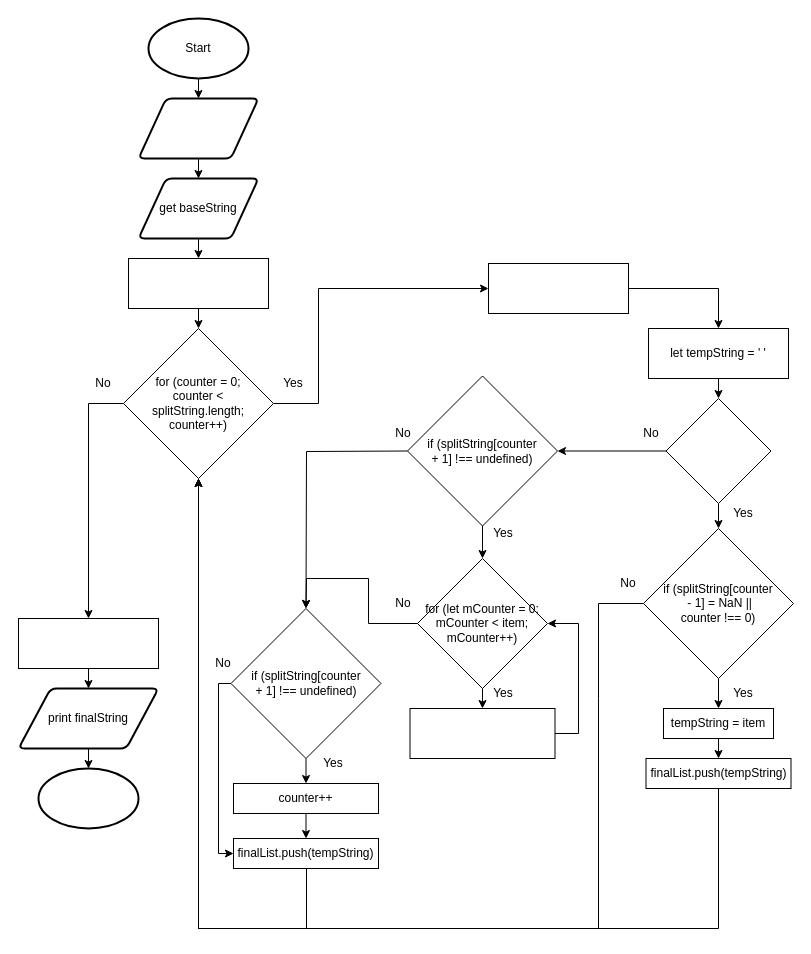
Some shapes in this 811 by 954 pixel diagram are drawn without their labels. The centre of each missing label's shape, as x and y in pixels:
const finalString = finalList.join(' '): (x=88, y=643)
const item = splitString[counter]: (x=558, y=288)
finalList = [ ]: (x=198, y=128)
if (item = NaN): (x=718, y=451)
splitString = baseString.split(' '): (x=198, y=283)
Stop: (x=88, y=798)
tempString = tempString.concat (splitString[counter + 1]): (x=482, y=733)
